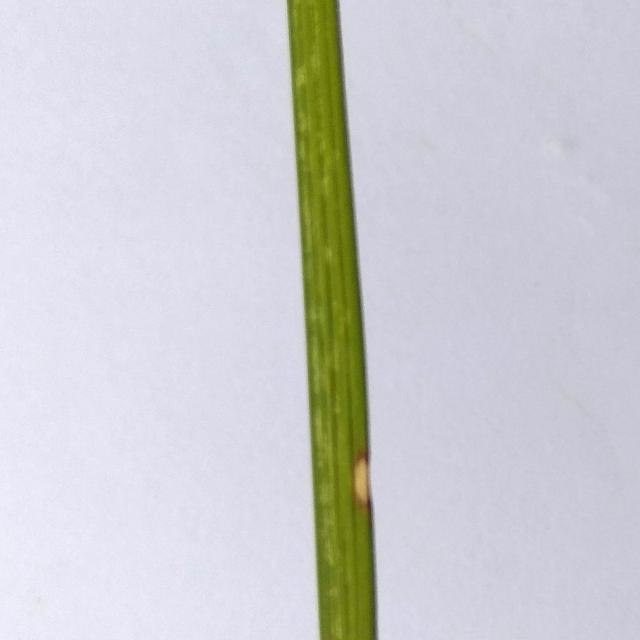Blast: (353, 458, 367, 504)
